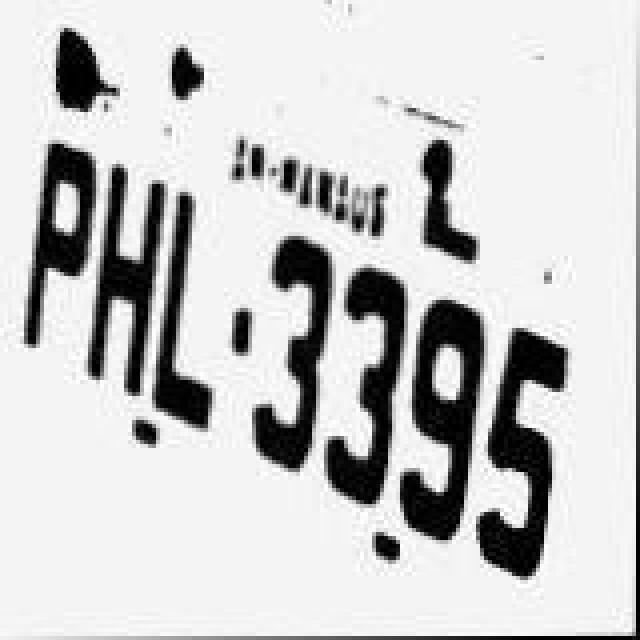3: (254, 224, 334, 508), (326, 254, 406, 526)
5: (482, 296, 578, 608)
9: (406, 282, 486, 578)
H: (92, 164, 160, 412)
L: (164, 188, 232, 432)
P: (12, 132, 96, 428)
